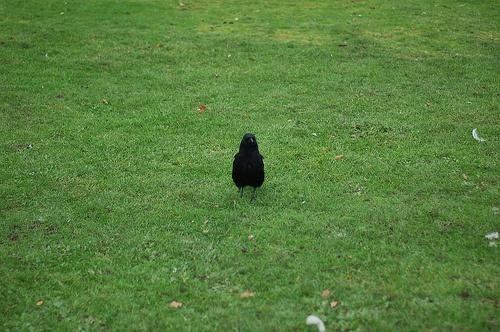bird: (230, 133, 270, 202)
